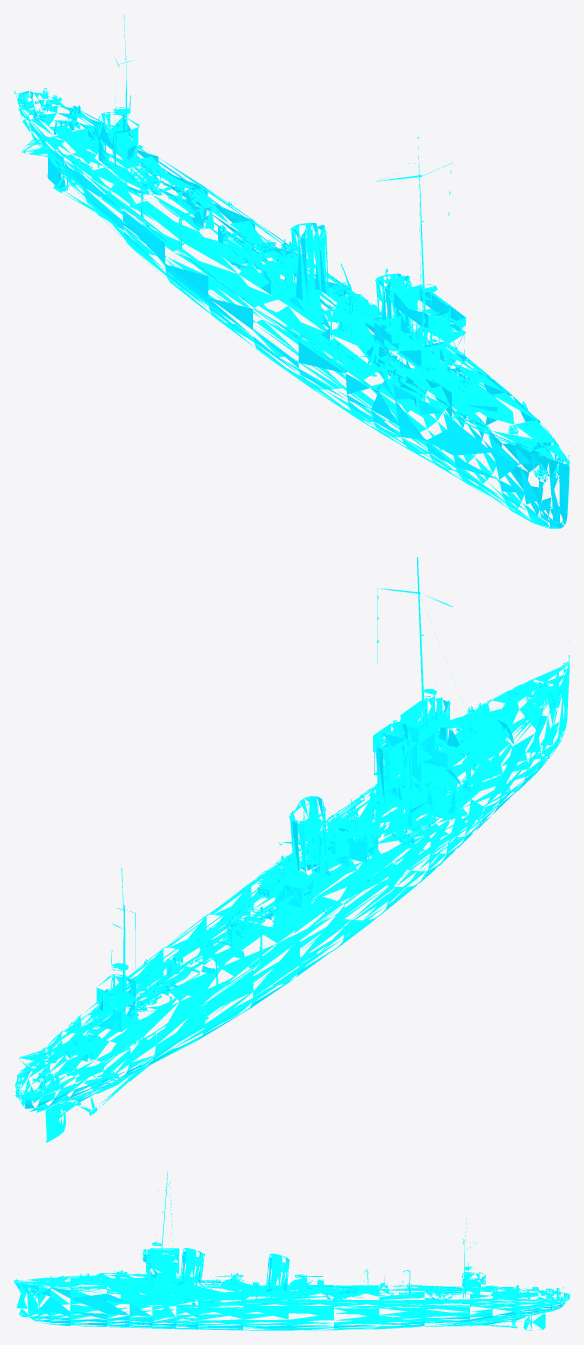
The model's file is PGSD104.glb.
3 views of the same model, one above another, from view 1: azimuth 30°, elevation 25°; view 2: azimuth 150°, elevation 25°; view 3: azimuth 270°, elevation 25° (orthographic). The views are drawn at different scales.
Parts seen in each view (by area): view 1: hull_mid, hull_bow, hull_stern, torpedo, main_battery; view 2: hull_mid, hull_bow, hull_stern, torpedo, main_battery; view 3: hull_mid, hull_bow, hull_stern, torpedo, main_battery.
Boxes of the visible parts, bbox=[...] form: hull_mid: bbox=[82, 15, 493, 469]; hull_bow: bbox=[418, 376, 569, 528]; hull_stern: bbox=[14, 88, 569, 459]; torpedo: bbox=[122, 155, 430, 376]; main_battery: bbox=[77, 115, 485, 392]; hull_mid: bbox=[77, 557, 493, 1084]; hull_bow: bbox=[436, 641, 569, 836]; hull_stern: bbox=[14, 655, 569, 1142]; torpedo: bbox=[127, 785, 452, 1010]; main_battery: bbox=[75, 709, 486, 1041]; hull_mid: bbox=[120, 1171, 486, 1330]; hull_bow: bbox=[14, 1273, 129, 1327]; hull_stern: bbox=[15, 1278, 569, 1330]; torpedo: bbox=[173, 1279, 462, 1303]; main_battery: bbox=[99, 1270, 513, 1296].
Bounding box in the file's own units: 0.6521 × 1.95 × 6.19.
